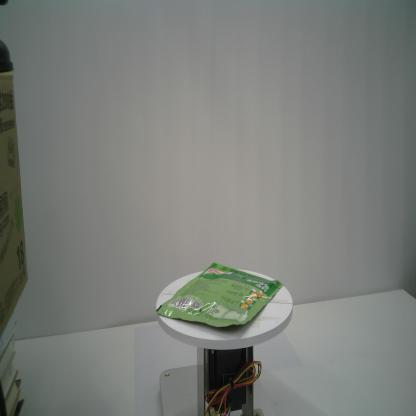Seasoner: (153, 260, 283, 330)
